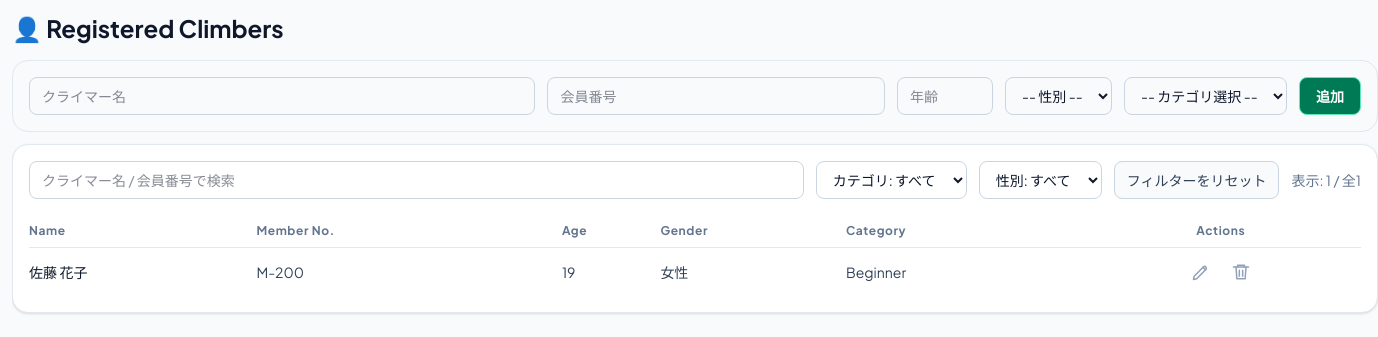
Test: ParticipantManager › updates a participant
This screenshot has width=1378, height=337.
Expected: the text "佐藤 花子" is shown, left=29, top=248, right=256, bottom=296
Click the button named "編集".
click(1201, 272)  # box left=1185, top=256, right=1217, bottom=288
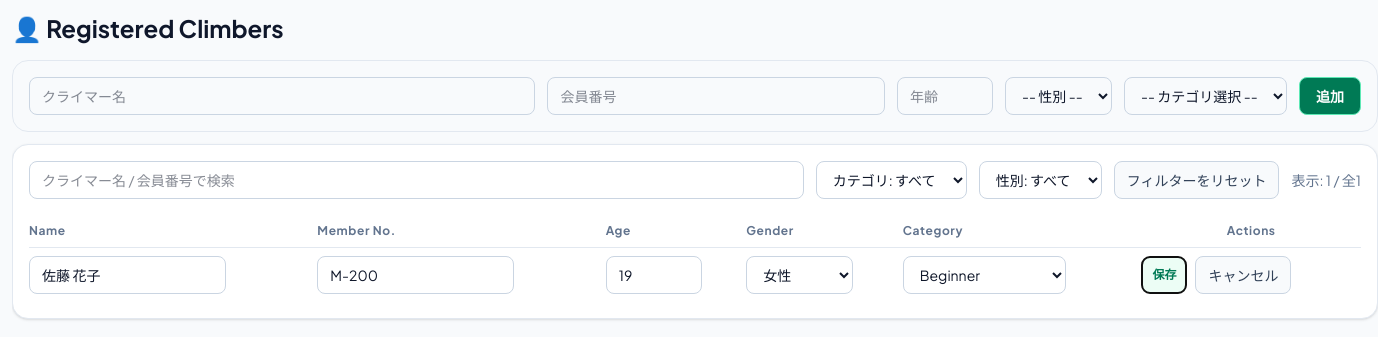
Replace the text in the 4th field with "佐藤 花子A" at x=128, y=275, box left=29, top=256, right=226, bottom=294
Replace the text in the 5th field with "M-999" at x=416, y=275, box left=317, top=256, right=514, bottom=294
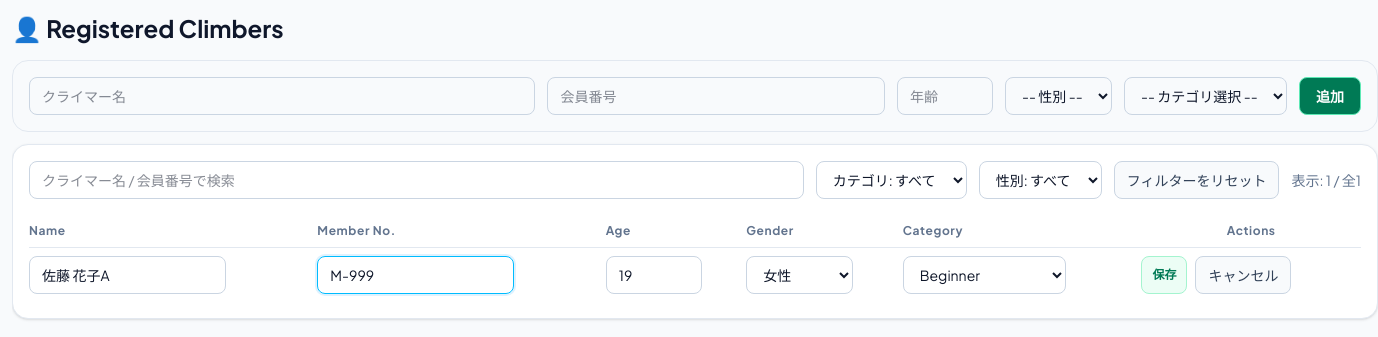
Replace the text in the 2nd number field with "21" at x=654, y=275, box left=606, top=256, right=702, bottom=294
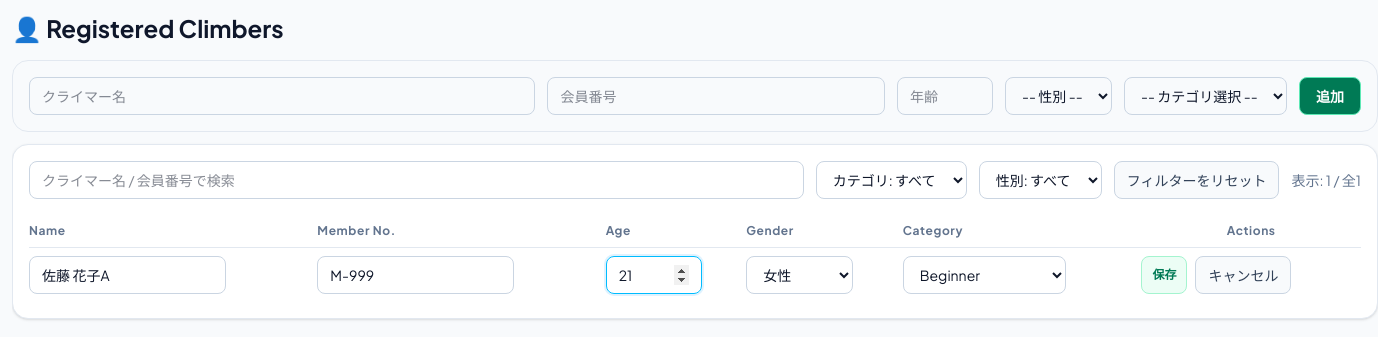
Select "その他" in the 5th dropdown at x=800, y=275, box left=746, top=256, right=853, bottom=294
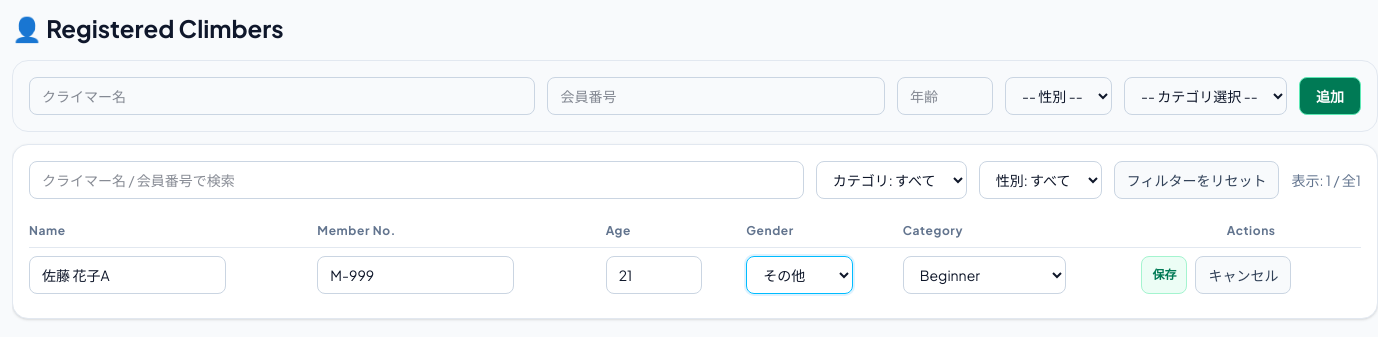
Select "Open" in the 6th dropdown at x=984, y=275, box left=903, top=256, right=1066, bottom=294
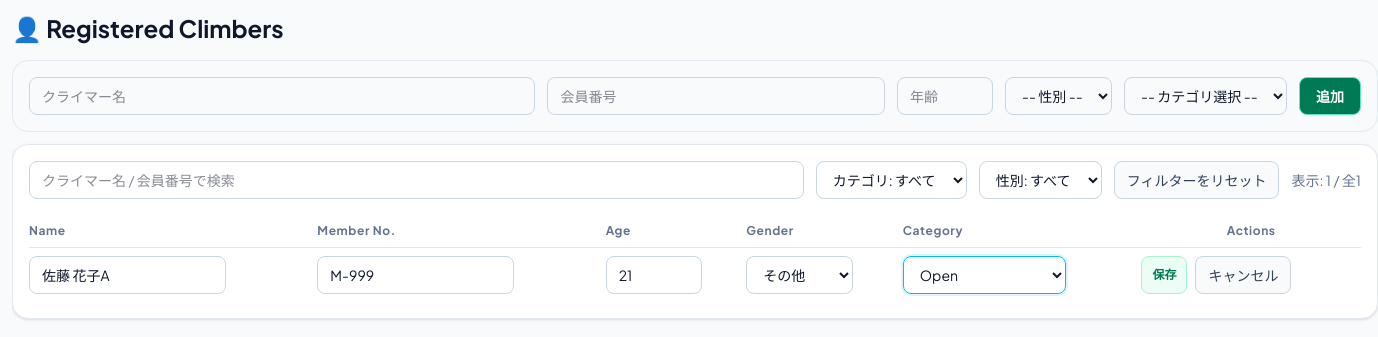
Click the button "保存".
click(1164, 275)  # box left=1141, top=256, right=1187, bottom=294
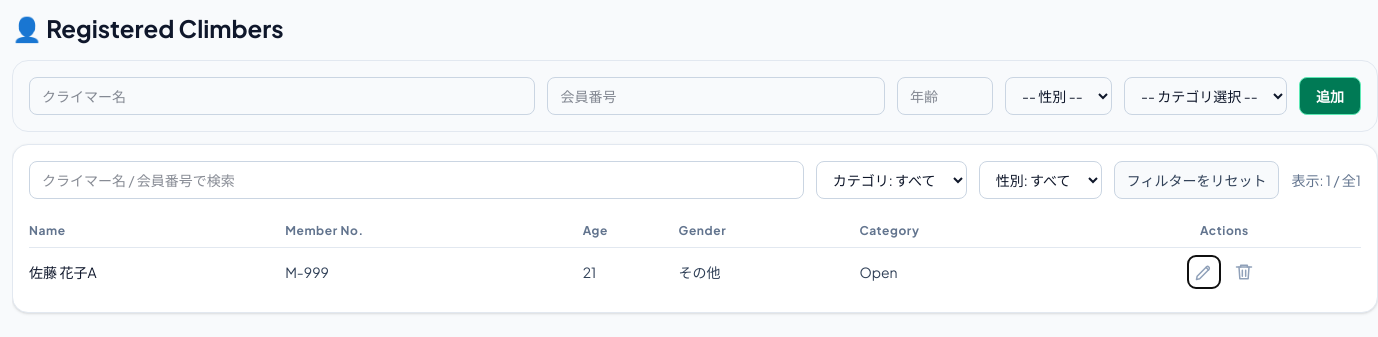
Expected: the text "佐藤 花子A" is shown, left=29, top=248, right=285, bottom=296
